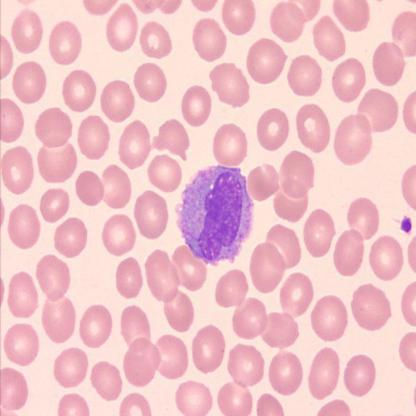Monocyte: (172, 163, 254, 268)
